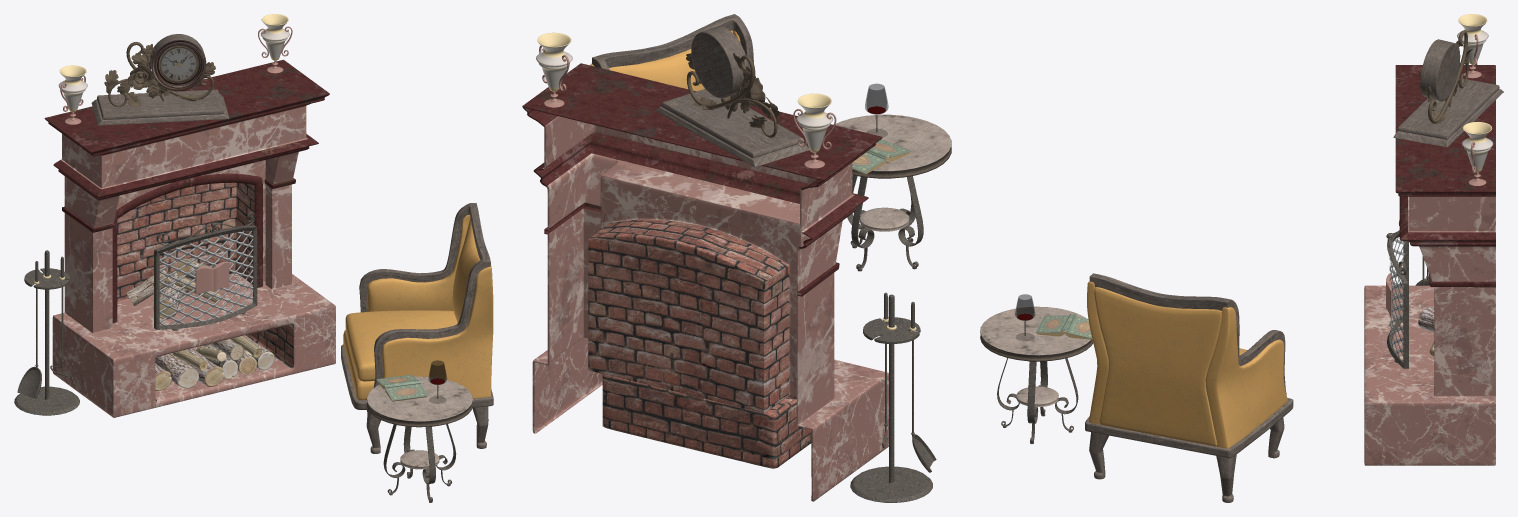
The picture shows the model from 3 angles, left to right: view 1: azimuth 30°, elevation 25°; view 2: azimuth 150°, elevation 25°; view 3: azimuth 270°, elevation 25°; orthographic projection. The views are drawn at different scales.
Visible parts, largest first — view 1: MSH_Fireplace, MSH_Pillows, MSH_Decoration (×2), GRP_Wood, MSH_Border, MSH_ClockBase, MSH_FireGrate_Inside, MSH_Top, MSH_FireplaceAccecoriesBase, MSH_Clock, MSH_Legs (×2), MSH_Vaso (×2) (+6 smaller); view 2: MSH_Fireplace, MSH_ClockBase, MSH_FireplaceAccecoriesBase, MSH_Top, MSH_Clock, MSH_Vaso (×2), MSH_Border, MSH_Legs, MSH_Pillows, MSH_ClockLeaves, MSH_Bottom, MSH_Book_Face (+3 smaller); view 3: MSH_Fireplace, MSH_Pillows, MSH_Top, MSH_ClockBase, MSH_Legs (×2), MSH_Border, MSH_WoodBase, MSH_Vaso (×2), MSH_Clock, MSH_Decoration, MSH_FireGrate_Inside, MSH_Book_Face (+3 smaller).
Part boxes in pixels (x1,y1,x2,y2): MSH_Fireplace: [44, 59, 335, 417]; MSH_Pillows: [343, 214, 493, 399]; MSH_Decoration (×2): [112, 173, 262, 330]; GRP_Wood: [126, 258, 274, 390]; MSH_Border: [359, 203, 490, 387]; MSH_ClockBase: [91, 89, 229, 125]; MSH_FireGrate_Inside: [159, 231, 253, 325]; MSH_Top: [366, 376, 472, 427]; MSH_FireplaceAccecoriesBase: [14, 250, 79, 415]; MSH_Clock: [150, 34, 206, 91]; MSH_Legs (×2): [366, 406, 488, 502]; MSH_Vaso (×2): [58, 14, 289, 112]; MSH_Fireplace: [522, 63, 888, 501]; MSH_ClockBase: [655, 89, 809, 167]; MSH_FireplaceAccecoriesBase: [850, 294, 932, 502]; MSH_Top: [835, 114, 951, 178]; MSH_Clock: [691, 26, 748, 98]; MSH_Vaso (×2): [536, 32, 833, 152]; MSH_Border: [592, 14, 753, 70]; MSH_Legs: [847, 175, 923, 271]; MSH_Pillows: [590, 30, 740, 96]; MSH_ClockLeaves: [686, 53, 779, 128]; MSH_Bottom: [860, 207, 909, 231]; MSH_Book_Face: [852, 139, 911, 173]; MSH_Fireplace: [1364, 65, 1495, 465]; MSH_Pillows: [1087, 281, 1288, 448]; MSH_Top: [980, 306, 1092, 361]; MSH_ClockBase: [1393, 78, 1503, 147]; MSH_Legs (×2): [997, 358, 1284, 502]; MSH_Border: [1089, 273, 1286, 394]; MSH_WoodBase: [1085, 393, 1293, 458]; MSH_Vaso (×2): [1457, 14, 1493, 172]; MSH_Clock: [1420, 39, 1460, 101]; MSH_Decoration: [1386, 220, 1408, 368]; MSH_FireGrate_Inside: [1389, 237, 1404, 361]; MSH_Book_Face: [1035, 314, 1091, 338].
Size of the model in its own units: 11.18 by 9.63 by 12.76.
18 materials, 12 textured.
